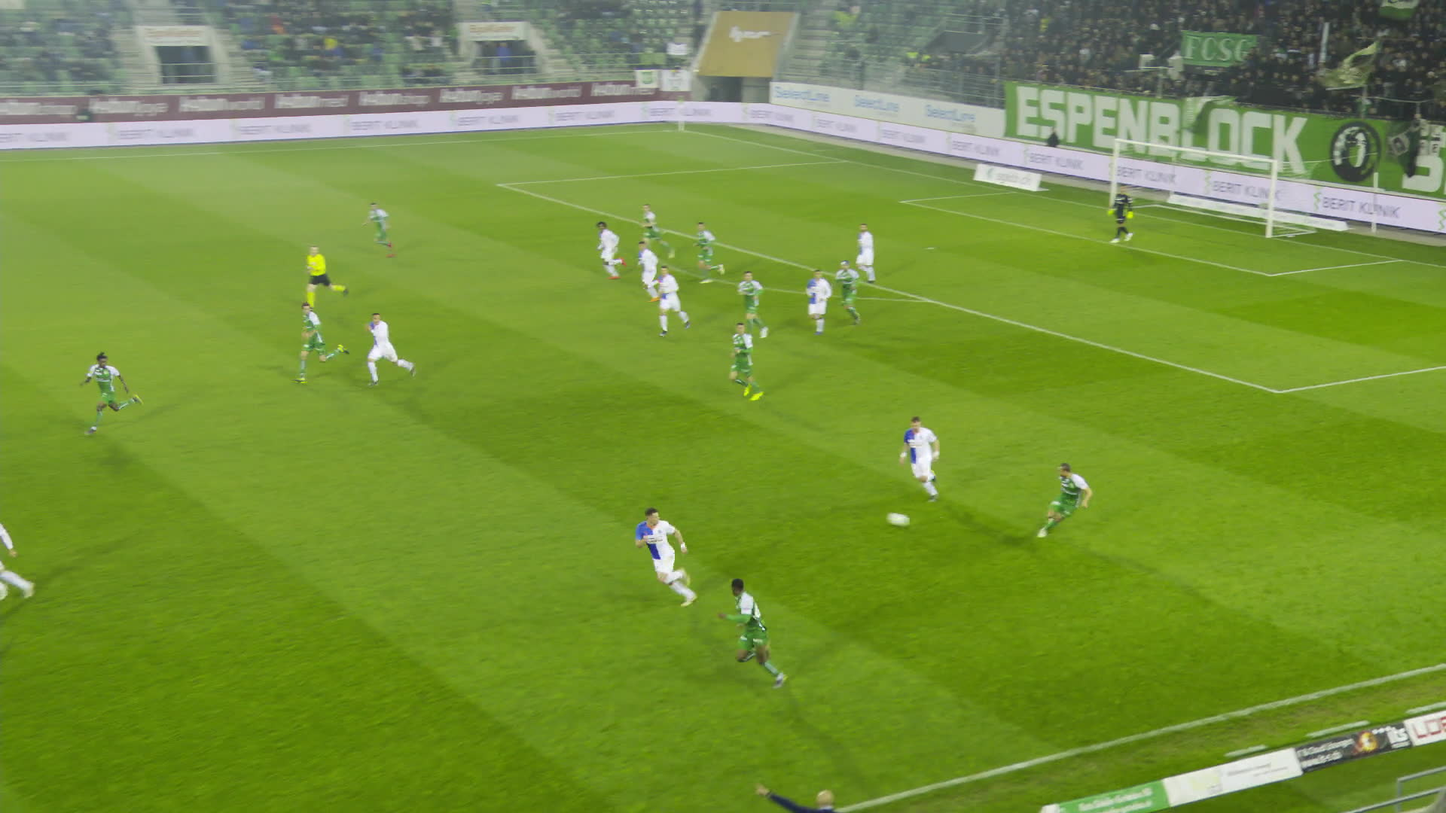ball: (887, 513, 903, 525)
player: (715, 575, 794, 695), (628, 506, 700, 604), (1033, 463, 1090, 545), (721, 321, 770, 403), (898, 416, 939, 506), (294, 304, 340, 383), (83, 352, 126, 436), (365, 312, 414, 385), (0, 522, 35, 602), (654, 264, 690, 336), (737, 269, 768, 338), (365, 202, 402, 258), (688, 221, 720, 284), (804, 268, 833, 335), (593, 221, 624, 280), (833, 260, 860, 327), (631, 241, 660, 302), (1106, 184, 1134, 245), (638, 206, 668, 261), (846, 222, 871, 284)
referee: (304, 245, 346, 310)
